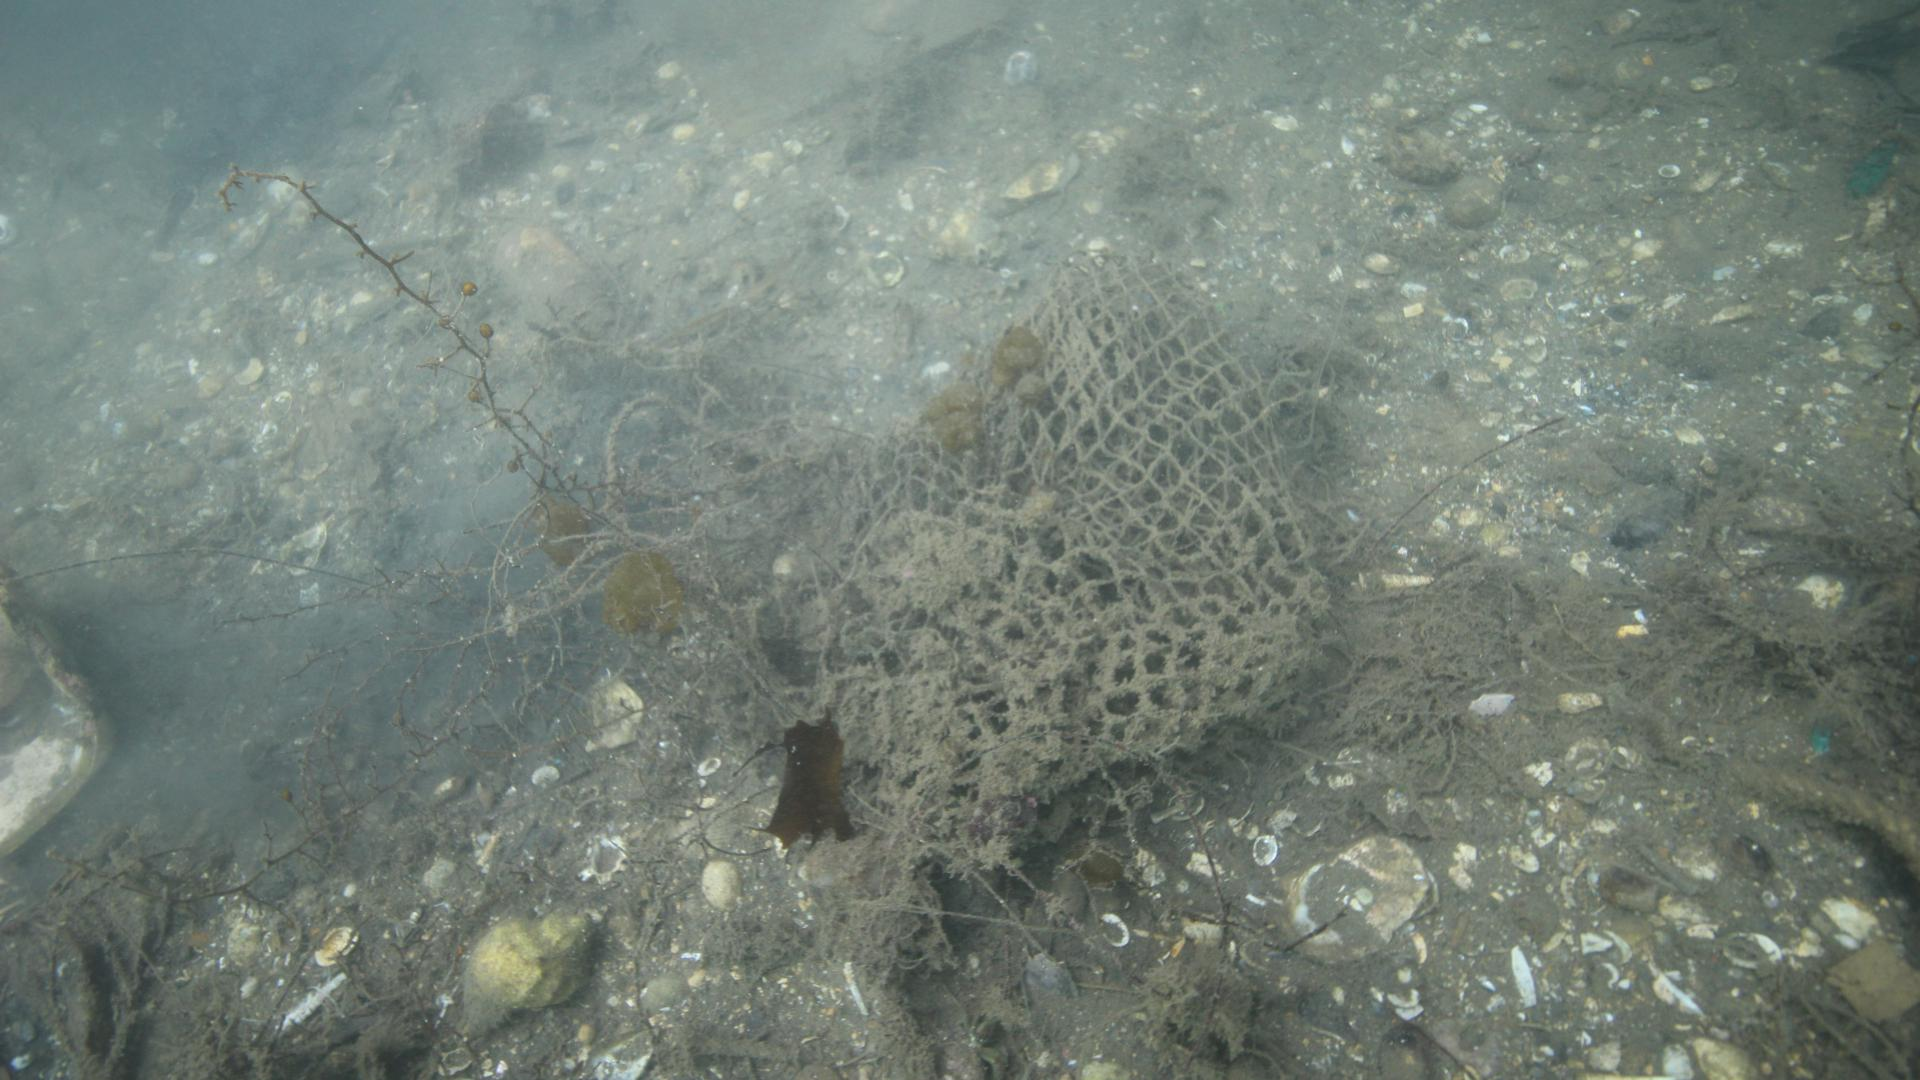fish net: (832, 248, 1337, 789)
